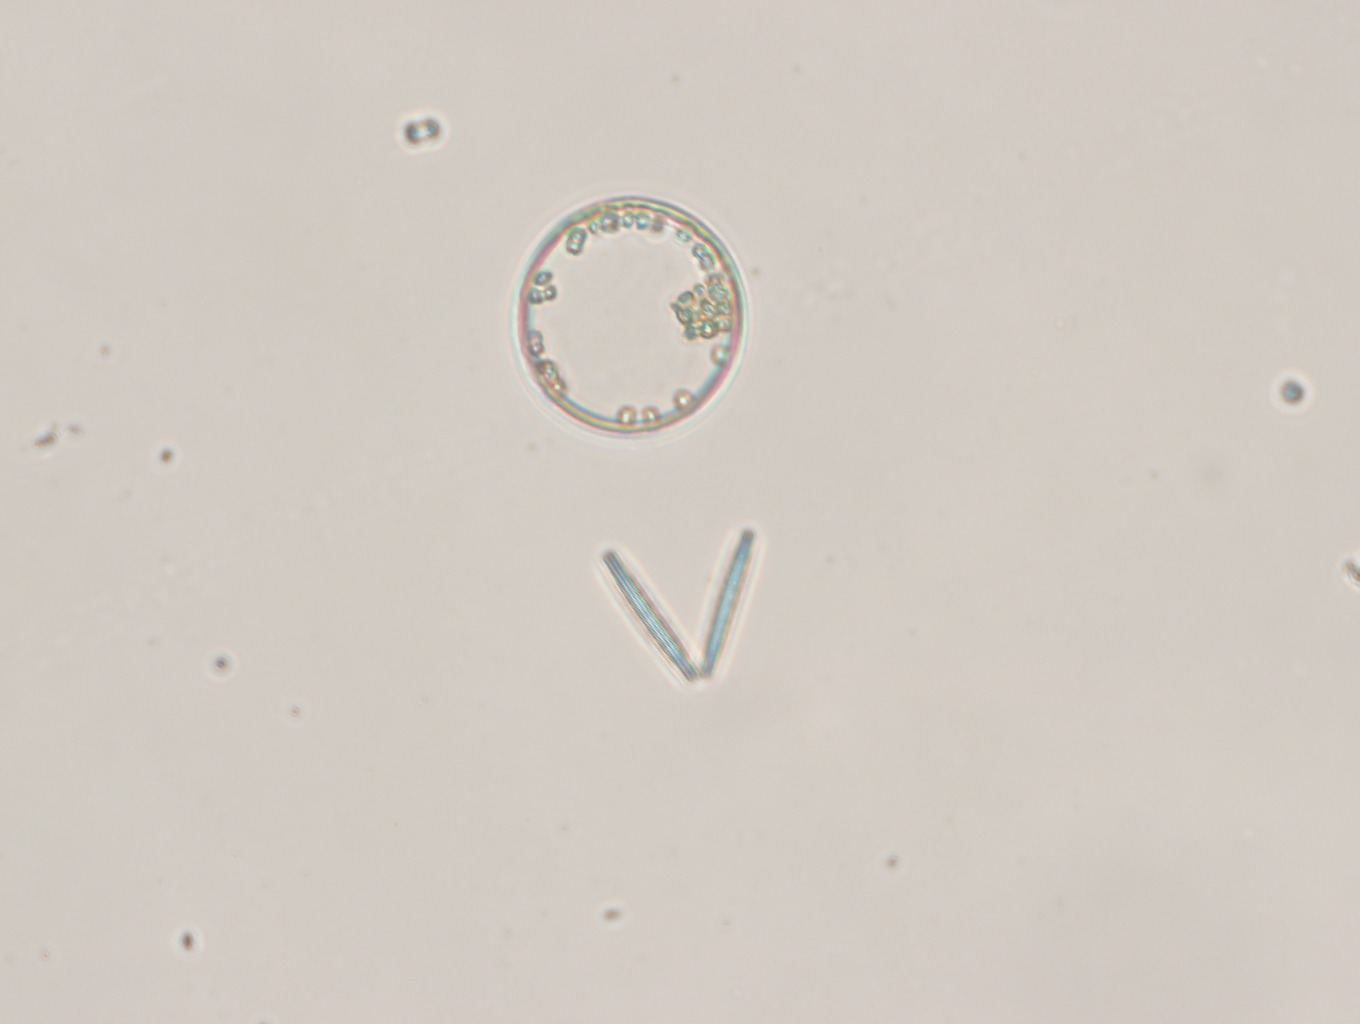coscinodiscus: (507, 194, 750, 441)
thalassionema nitzschioides: (593, 525, 763, 694)
